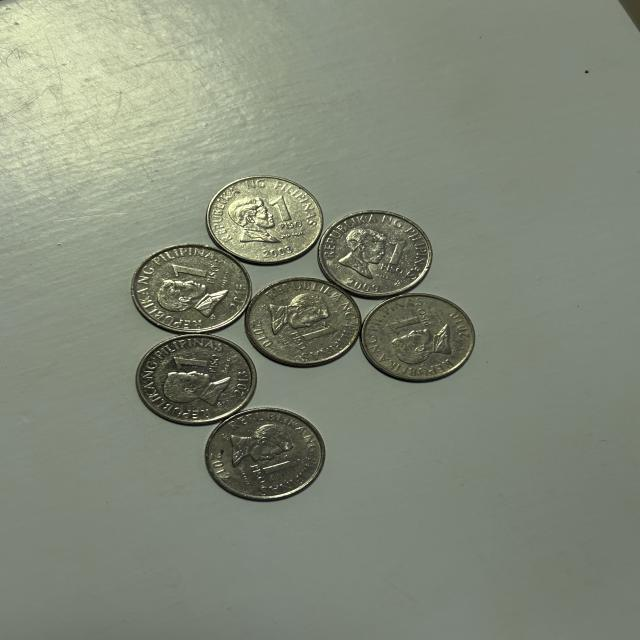1_Old_Front: (168, 257, 226, 300), (265, 194, 309, 243), (383, 308, 443, 342), (244, 454, 302, 487), (372, 235, 411, 282), (289, 324, 341, 352), (172, 350, 221, 376)
